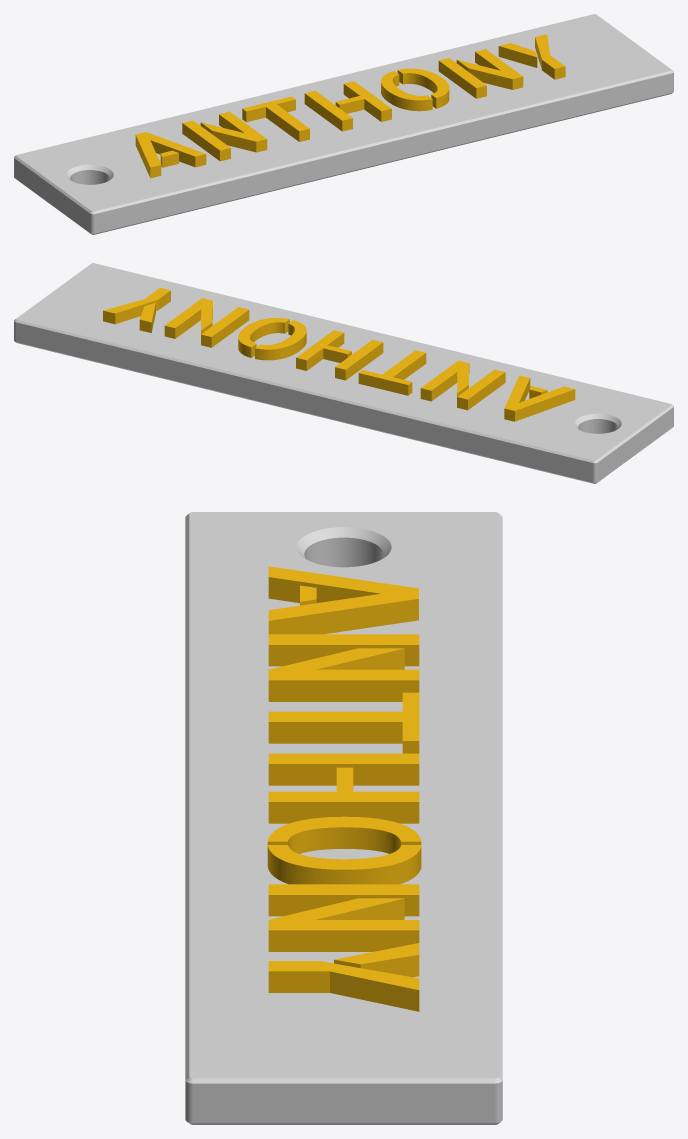
Rendered from Anthony Hua.gltf.
3 renders of one model, top to bottom at view 1: azimuth 30°, elevation 25°; view 2: azimuth 150°, elevation 25°; view 3: azimuth 270°, elevation 25°, orthographic. The views are drawn at different scales.
Visible parts, largest first — view 1: Part 1, Part 2, Part 6, Part 4, Part 11, Part 7, Part 9, Part 10, Part 5, Part 12, Part 8, Part 13 (+1 smaller); view 2: Part 1, Part 2, Part 6, Part 7, Part 4, Part 11, Part 9, Part 10, Part 13, Part 5, Part 8, Part 12 (+1 smaller); view 3: Part 1, Part 2, Part 4, Part 11, Part 6, Part 7, Part 13, Part 8, Part 10, Part 9, Part 12, Part 5 (+1 smaller).
Part boxes in pixels (left/top/right/bottom): Part 1: left=14, top=14, right=673, bottom=234; Part 2: left=135, top=132, right=206, bottom=178; Part 6: left=242, top=96, right=309, bottom=141; Part 4: left=200, top=111, right=267, bottom=152; Part 11: left=456, top=49, right=523, bottom=89; Part 7: left=335, top=81, right=391, bottom=121; Part 9: left=381, top=71, right=432, bottom=111; Part 10: left=397, top=68, right=449, bottom=108; Part 5: left=182, top=120, right=230, bottom=161; Part 12: left=438, top=58, right=486, bottom=98; Part 8: left=304, top=90, right=352, bottom=131; Part 13: left=535, top=34, right=565, bottom=79; Part 1: left=14, top=263, right=673, bottom=483; Part 2: left=504, top=375, right=575, bottom=421; Part 6: left=358, top=350, right=426, bottom=395; Part 7: left=296, top=330, right=351, bottom=370; Part 4: left=420, top=360, right=469, bottom=401; Part 11: left=164, top=298, right=212, bottom=338; Part 9: left=255, top=320, right=306, bottom=360; Part 10: left=238, top=318, right=289, bottom=357; Part 13: left=103, top=288, right=170, bottom=324; Part 5: left=457, top=369, right=505, bottom=410; Part 8: left=335, top=339, right=383, bottom=380; Part 12: left=201, top=307, right=249, bottom=347; Part 1: left=185, top=512, right=502, bottom=1124; Part 2: left=268, top=566, right=418, bottom=634; Part 4: left=268, top=648, right=419, bottom=701; Part 11: left=268, top=898, right=419, bottom=951; Part 6: left=268, top=692, right=419, bottom=753; Part 7: left=268, top=767, right=419, bottom=823; Part 13: left=268, top=961, right=419, bottom=1011; Part 8: left=268, top=753, right=419, bottom=785; Part 10: left=267, top=845, right=421, bottom=884; Part 9: left=267, top=816, right=421, bottom=853; Part 12: left=268, top=884, right=419, bottom=916; Part 5: left=268, top=634, right=419, bottom=666.
Bounding box in the file's own units: 0.085 × 0.00625 × 0.02.
